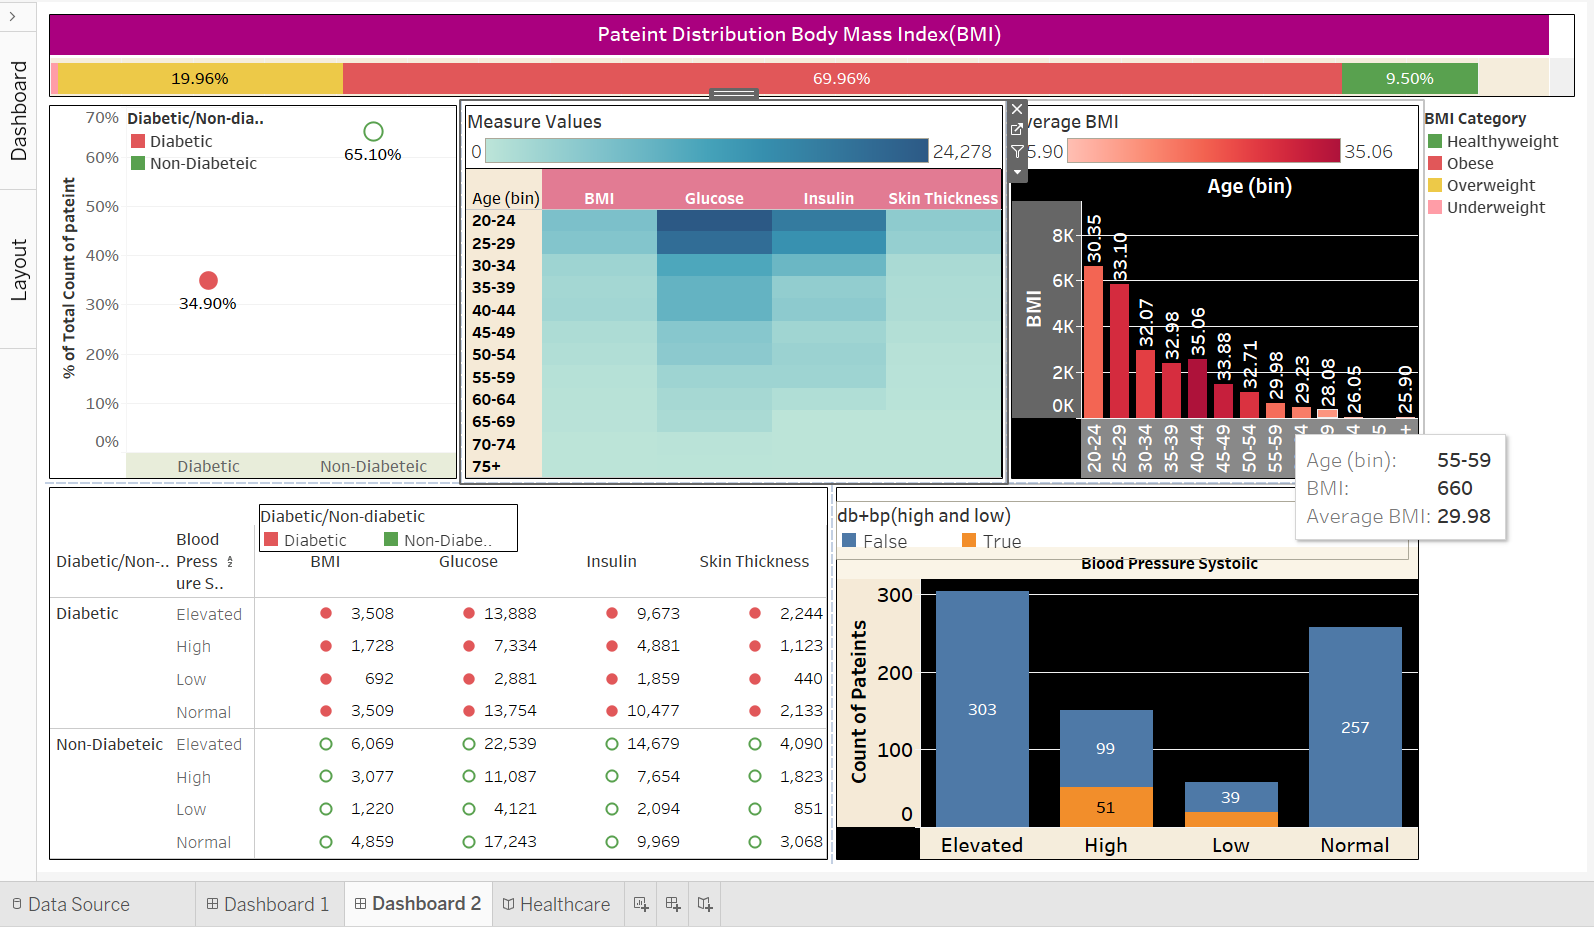

This screenshot's page, from the dashboard's own definition file:
{"tool":"tableau","page":{"name":"Dashboard 2","canvas":[1550,870],"ordinal":1},"visuals":[{"type":"worksheet","title":"Pateint Distribution BMI","mark":"Automatic","cols":["BMI"],"box":[8,8,1534,91.1]},{"type":"worksheet","title":"Diabetic/Non-diabetic using Shapes","mark":"Shape","cols":["Calculation_992199340387360768"],"box":[8,99.1,415,393.3]},{"type":"worksheet","title":"Heatmap","mark":"Automatic","rows":["Age (bin)"],"box":[423,99.1,544,393.3]},{"type":"worksheet","title":"Histogram BMI","mark":"Automatic","rows":["BMI"],"cols":["Age (bin)"],"box":[967,99.1,415,393.3]},{"type":"legend","title":"Pateint Distribution BMI","param":"[federated.0jqhy5803628c114ufn9w1c0k48z].[none:Calculation_992199340427976708:nk","box":[1387,105,140,114]},{"type":"legend","title":"Diabetic/Non-diabetic using Shapes","param":"[federated.0jqhy5803628c114ufn9w1c0k48z].[none:Calculation_992199340387360768:nk","box":[90,105.4,140,91.1]},{"type":"legend","title":"Heatmap","param":"[federated.0jqhy5803628c114ufn9w1c0k48z].[Multiple Values]","box":[430,106,530,65]},{"type":"legend","title":"Histogram BMI","param":"[federated.0jqhy5803628c114ufn9w1c0k48z].[usr:Calculation_992199340426121219:qk]","box":[974,106,387,60]},{"type":"worksheet","title":"Patient summary by Blood Pressure category","mark":"Shape","rows":["Calculation_992199340387360768","Blood Pressure Systolic"],"box":[8,492.4,785,369.5]},{"type":"worksheet","title":"Bar Chart by BP and Db","mark":"Automatic","rows":["Healthcare Data.csv_40284FCC7A654213B817A6AC8BAE9A42"],"cols":["Blood Pressure Systolic"],"box":[793,492.4,589,369.5]},{"type":"legend","title":"Bar Chart by BP and Db","param":"[federated.0jqhy5803628c114ufn9w1c0k48z].[none:Calculation_992199340430114822:nk","box":[799,499,573,59]},{"type":"legend","title":"Patient summary by Blood Pressure category","param":"[federated.0jqhy5803628c114ufn9w1c0k48z].[__tableau_internal_object_id__].[cnt:H","box":[486,501,296,50]},{"type":"legend","title":"Patient summary by Blood Pressure category","param":"[federated.0jqhy5803628c114ufn9w1c0k48z].[none:Calculation_992199340387360768:nk","box":[222,502,259,48]}]}

Visuals, with their boxes on the page's 1550x870 design canvas (x1, y1, x2, y2). These are canvas units, not pixel positions in the 1594x927 screenshot, which may show the page scaled, cropped or inside an application window:
"Pateint Distribution BMI" worksheet: bbox=(8, 8, 1542, 99)
"Diabetic/Non-diabetic using Shapes" worksheet (Shape marks): bbox=(8, 99, 423, 492)
"Heatmap" worksheet: bbox=(423, 99, 967, 492)
"Histogram BMI" worksheet: bbox=(967, 99, 1382, 492)
"Pateint Distribution BMI" legend: bbox=(1387, 105, 1527, 219)
"Diabetic/Non-diabetic using Shapes" legend: bbox=(90, 105, 230, 196)
"Heatmap" legend: bbox=(430, 106, 960, 171)
"Histogram BMI" legend: bbox=(974, 106, 1361, 166)
"Patient summary by Blood Pressure category" worksheet (Shape marks): bbox=(8, 492, 793, 862)
"Bar Chart by BP and Db" worksheet: bbox=(793, 492, 1382, 862)
"Bar Chart by BP and Db" legend: bbox=(799, 499, 1372, 558)
"Patient summary by Blood Pressure category" legend: bbox=(486, 501, 782, 551)
"Patient summary by Blood Pressure category" legend: bbox=(222, 502, 481, 550)
